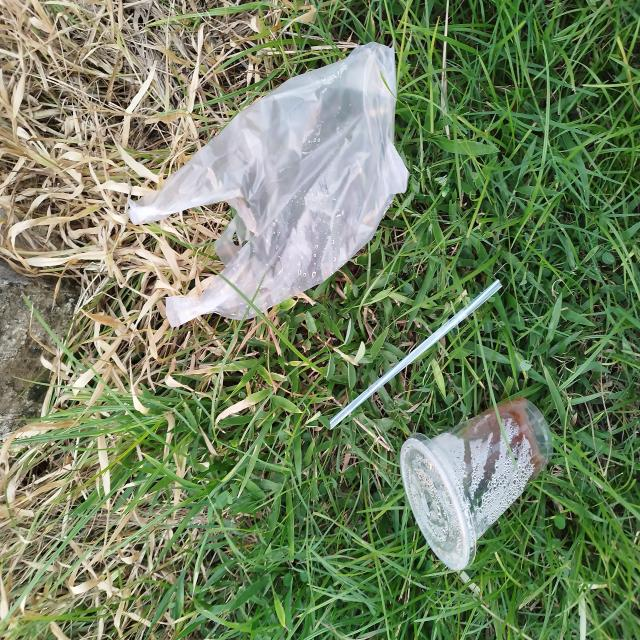bag: (126, 41, 410, 329)
drinking straw: (329, 278, 503, 430)
plastic glass: (399, 396, 554, 573)
